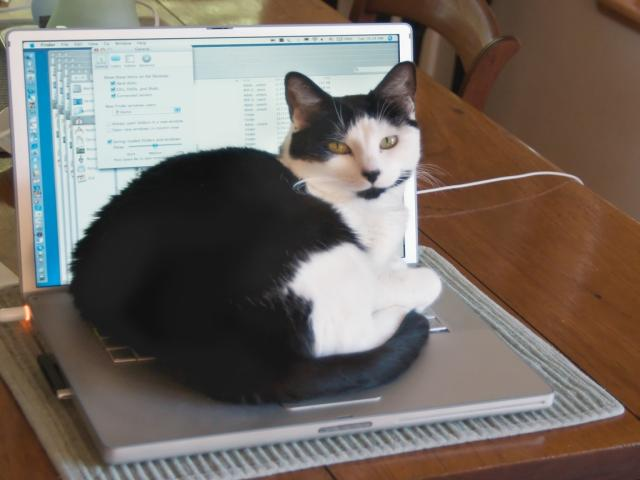Cat: (66, 62, 458, 407)
